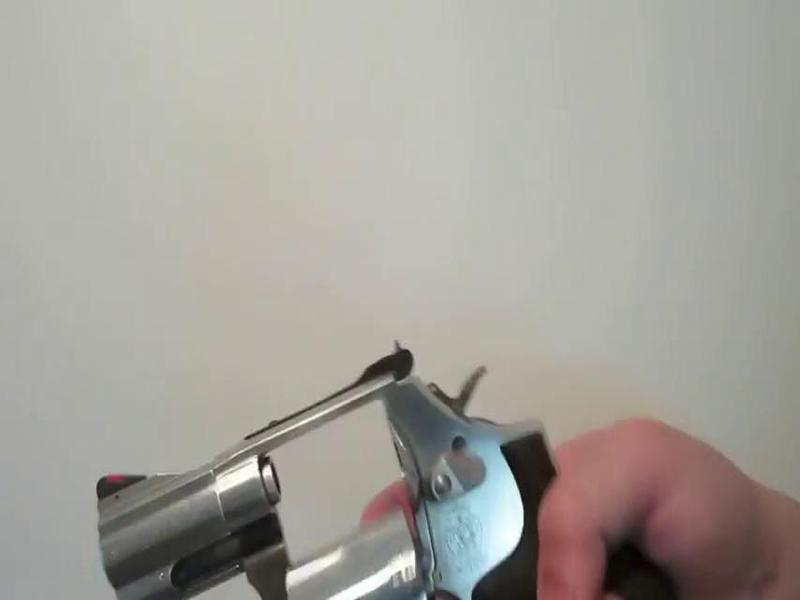Revolver: (97, 314, 680, 600)
